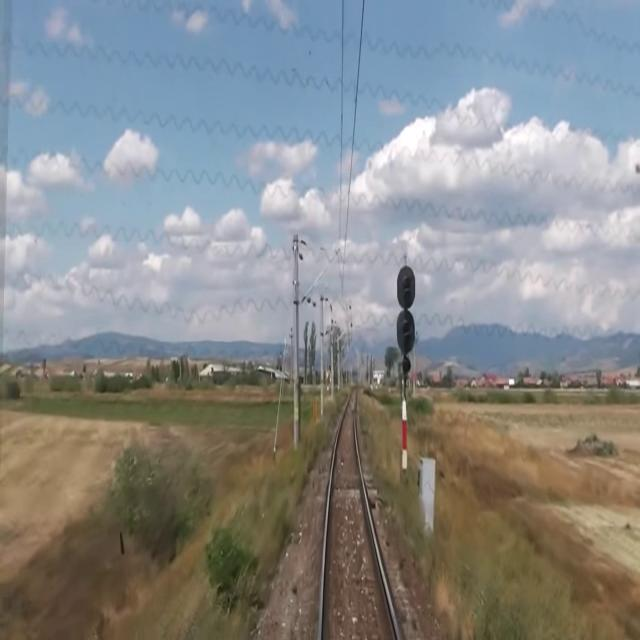rail-track: (323, 394, 395, 639)
